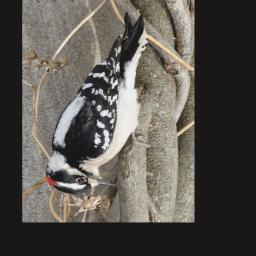Woodpecker: (46, 11, 150, 195)
